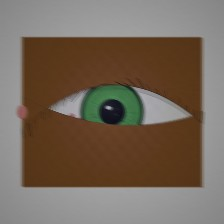hemorrhage_spot: (50, 89, 141, 161)
